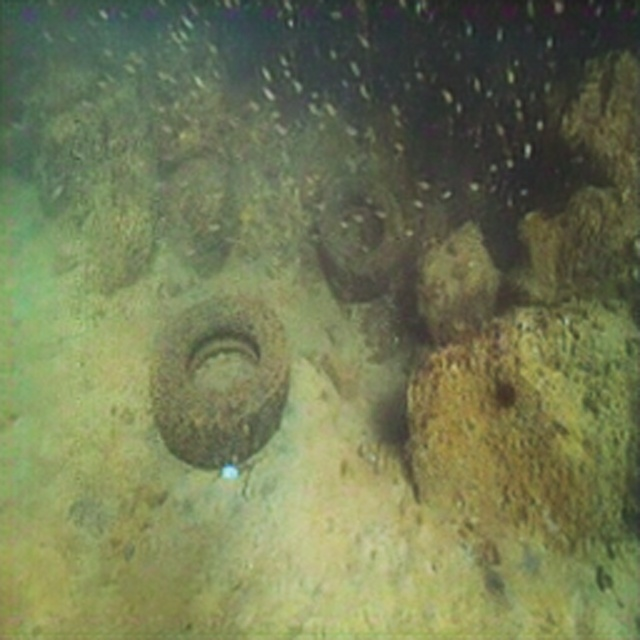mine: (148, 296, 295, 478), (314, 173, 403, 296)
